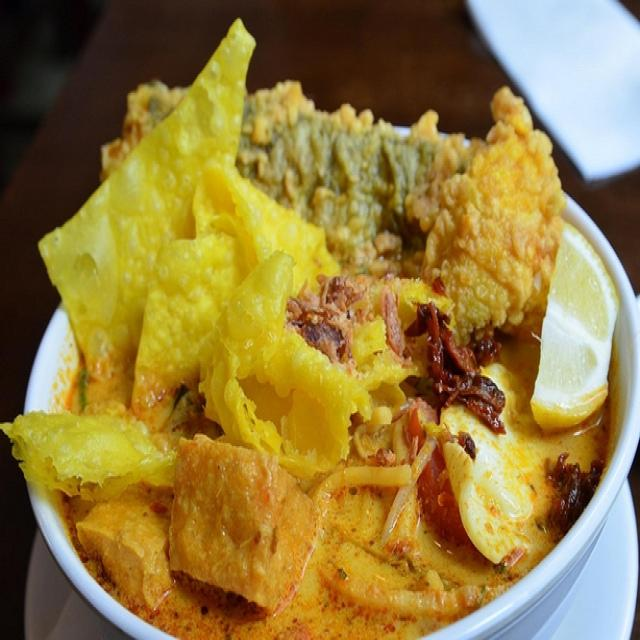面条主食: (68, 77, 614, 615)
